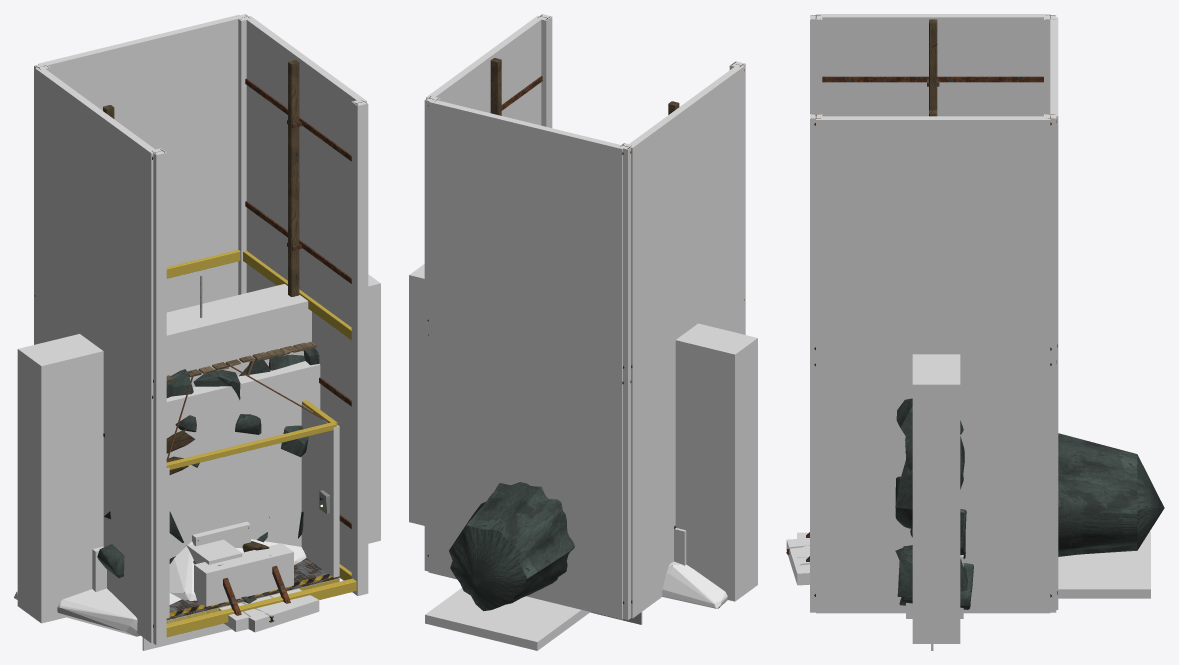
File: Kit_Mine.fbx
3 views of the same model, side by side, from view 1: azimuth 30°, elevation 25°; view 2: azimuth 150°, elevation 25°; view 3: azimuth 270°, elevation 25° (orthographic). The views are drawn at different scales.
Visible parts, largest first — view 1: COL_Side_L, COL_Side_Back, COL_Side_R, COL_Wall_L, COL_Wall, Elevator_Frame, COL_Guide_2, COL_Wall_Top, COL_Guide_0, COL_Wall_R, COL_Rail_Right, Elevator_Platform (+15 smaller); view 2: COL_Side_Back, COL_Side_L, COL_Wall_L, BorerHole, COL_Side_R, COL_Floor, COL_Wall_R, COL_Guide_1, COL_Guide_3, COL_Rubble_CONVEX, COL_Guide_2, Elevator_Frame (+1 smaller); view 3: COL_Side_R, COL_Side_L, COL_Wall_R, BorerHole, COL_Floor, LooseRockWall, COL_Guide_3, COL_Guide_2, Elevator_Frame, COL_Side_Back, COL_Guide_0, COL_Track_CONVEX (+1 smaller).
Part boxes in pixels (<box>): COL_Side_L: <box>35,66,156,643</box>; COL_Side_Back: <box>38,14,242,312</box>; COL_Side_R: <box>245,16,366,580</box>; COL_Wall_L: <box>17,334,103,623</box>; COL_Wall: <box>166,361,320,558</box>; Elevator_Frame: <box>34,15,366,637</box>; COL_Guide_2: <box>351,99,368,595</box>; COL_Wall_Top: <box>166,289,283,387</box>; COL_Guide_0: <box>151,148,166,645</box>; COL_Wall_R: <box>261,274,380,543</box>; COL_Rail_Right: <box>301,404,339,577</box>; Elevator_Platform: <box>166,275,339,623</box>; COL_Side_Back: <box>428,100,624,619</box>; COL_Side_L: <box>627,65,744,618</box>; COL_Wall_L: <box>675,323,757,601</box>; BorerHole: <box>449,482,574,611</box>; COL_Side_R: <box>426,15,542,125</box>; COL_Floor: <box>425,588,590,650</box>; COL_Wall_R: <box>409,264,424,525</box>; COL_Guide_1: <box>620,143,632,619</box>; COL_Guide_3: <box>424,95,440,571</box>; COL_Rubble_CONVEX: <box>662,561,727,608</box>; COL_Guide_2: <box>537,14,552,127</box>; Elevator_Frame: <box>426,14,744,603</box>; COL_Side_R: <box>816,116,1050,613</box>; COL_Side_L: <box>816,14,1050,116</box>; COL_Wall_R: <box>912,354,960,643</box>; BorerHole: <box>1058,433,1164,556</box>; COL_Floor: <box>1058,531,1150,598</box>; LooseRockWall: <box>895,398,973,609</box>; COL_Guide_3: <box>1044,114,1056,612</box>; COL_Guide_2: <box>810,114,822,612</box>; Elevator_Frame: <box>811,15,1057,597</box>; COL_Side_Back: <box>1050,17,1058,609</box>; COL_Guide_0: <box>810,15,822,113</box>; COL_Track_CONVEX: <box>786,538,809,585</box>.
Bounding box in the file's own units: 5.8 × 9 × 5.56.
